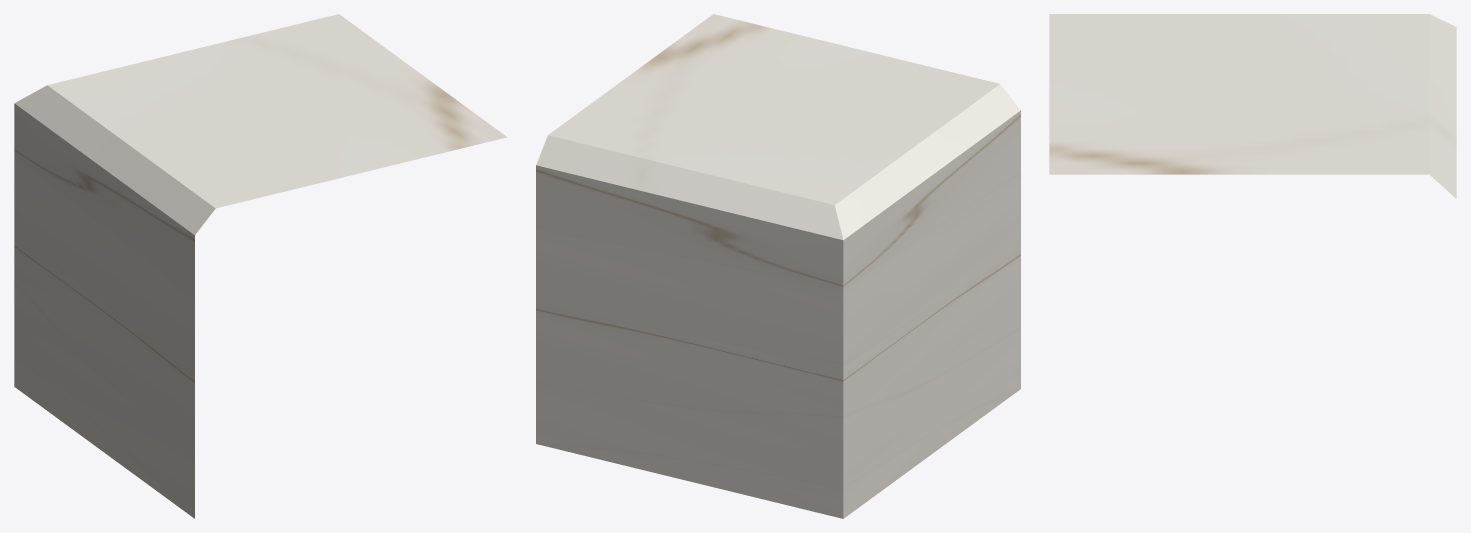
File: f01-marble-cream-corner-north-west.glb
3 renders of one model, left to right at view 1: azimuth 30°, elevation 25°; view 2: azimuth 150°, elevation 25°; view 3: azimuth 270°, elevation 25°, orthographic. The views are drawn at different scales.
Visible parts, largest first — view 1: S7-FLOOR-F01-E-NORTH_WEST :: 60mm exposed 3D marble outer co; view 2: S7-FLOOR-F01-E-NORTH_WEST :: 60mm exposed 3D marble outer co; view 3: S7-FLOOR-F01-E-NORTH_WEST :: 60mm exposed 3D marble outer co.
Boxes of the visible parts, left/top/right/bottom form: S7-FLOOR-F01-E-NORTH_WEST :: 60mm exposed 3D marble outer co: left=14, top=14, right=506, bottom=518; S7-FLOOR-F01-E-NORTH_WEST :: 60mm exposed 3D marble outer co: left=536, top=14, right=1020, bottom=518; S7-FLOOR-F01-E-NORTH_WEST :: 60mm exposed 3D marble outer co: left=1049, top=14, right=1456, bottom=198.
Bounding box in the file's own units: 0.06 × 0.056 × 0.06.
Materials: 1 (1 with a texture image).
